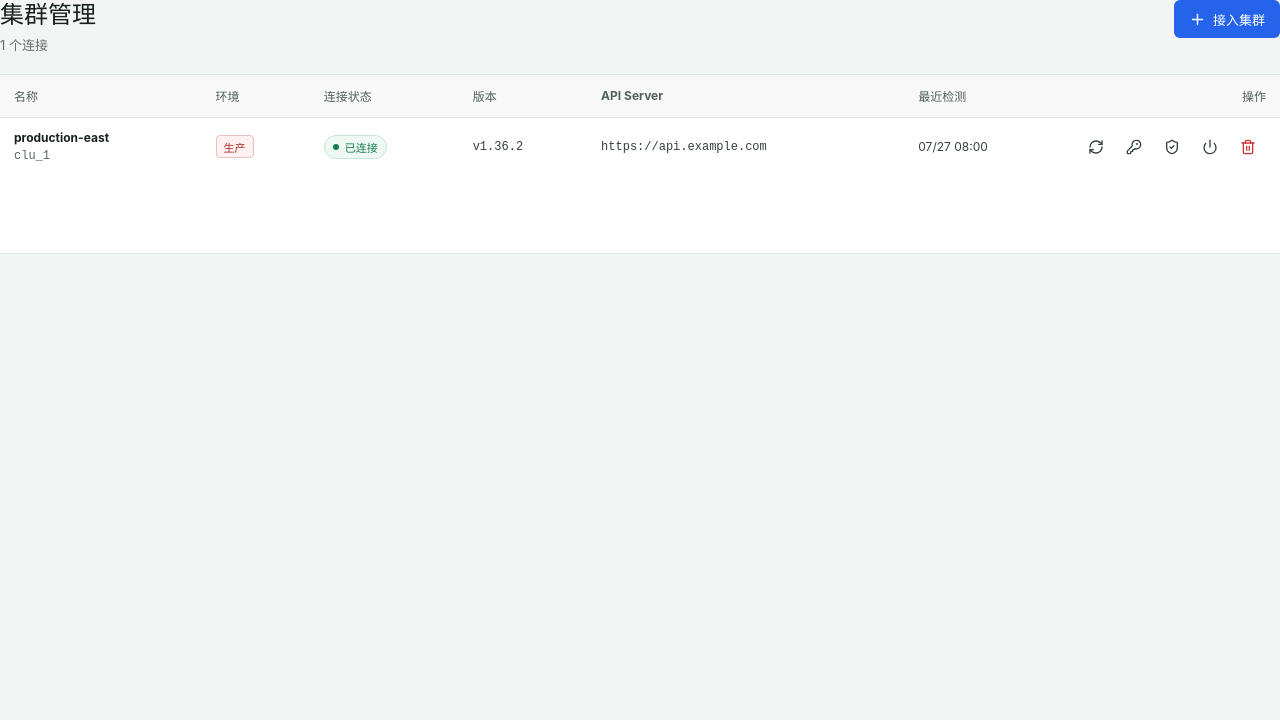
Test case: ClustersPage › checks namespace capabilities explicitly and renders normalized states
Click the button named "检测 production-east 权限" at (1172, 146), box [1154,128,1190,164]
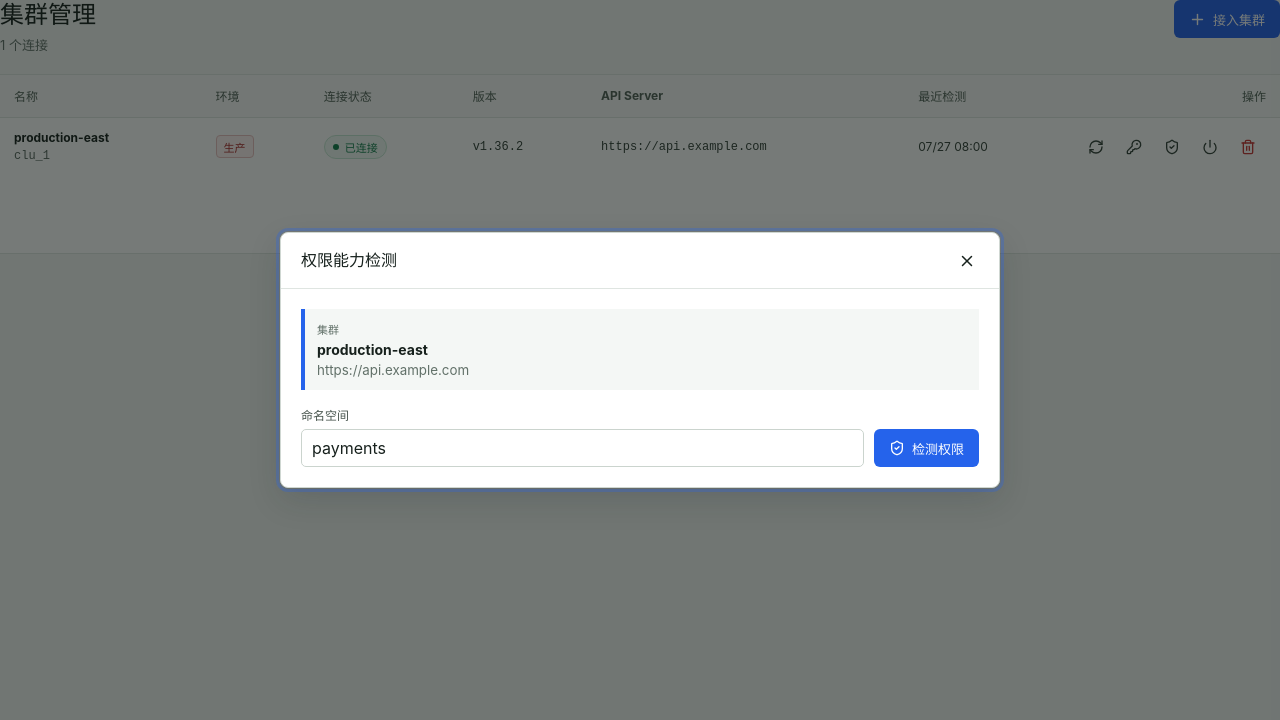
Check: the field labelled "命名空间" holds "payments", box [301,429,864,467]
Click the button "检测权限" at (926, 448), box [874,429,979,467]
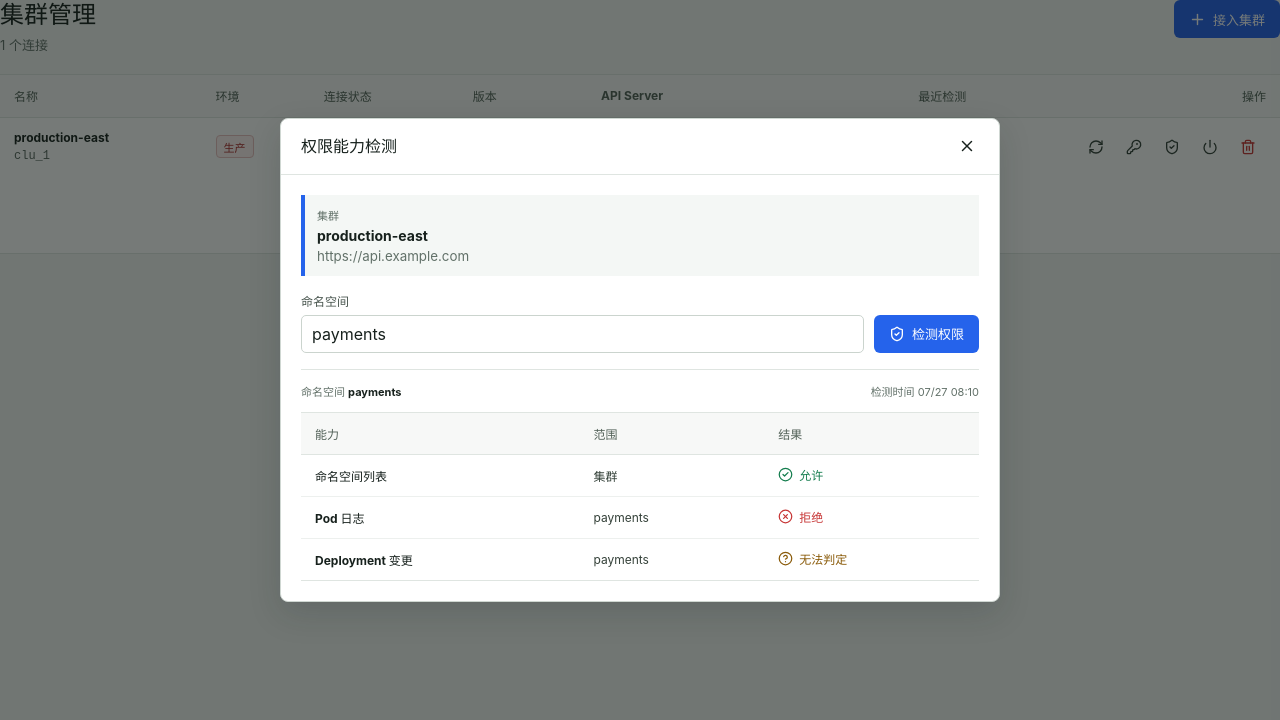
Check: the row "命名空间列表 集群 允许" is shown, box [301,455,979,497]
Check: the row "Pod 日志 payments 拒绝" is shown, box [301,497,979,539]
Check: the row "Deployment 变更 payments 无法判定" is shown, box [301,539,979,580]
